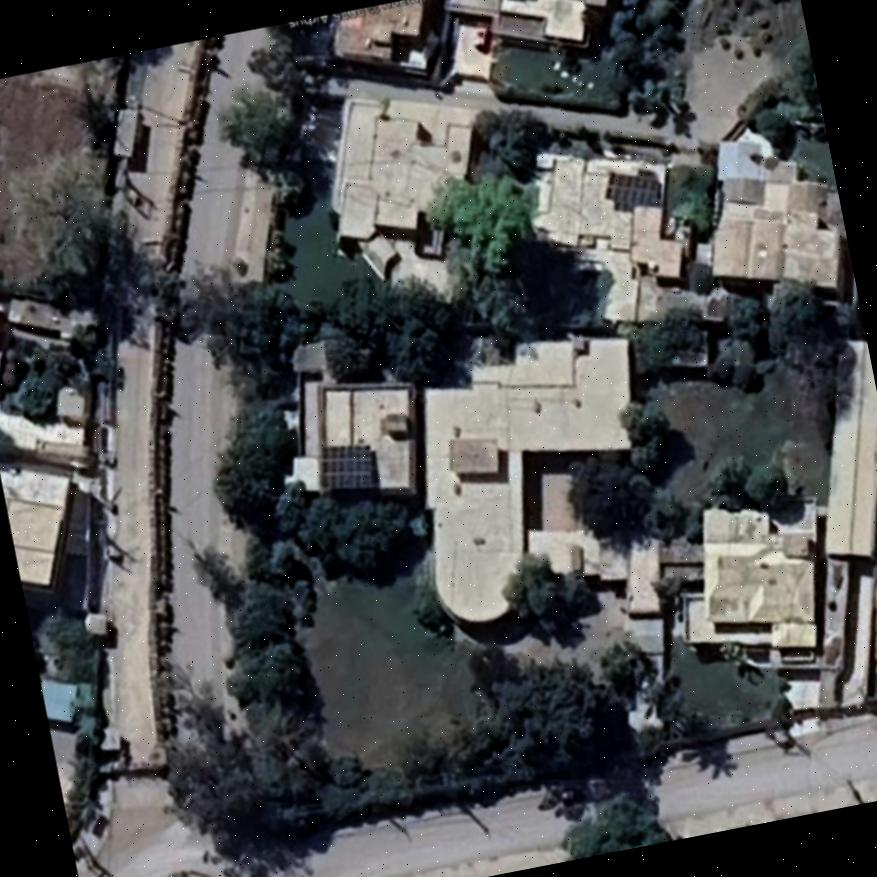Solarpanel: (322, 447, 374, 492), (605, 168, 662, 206)
